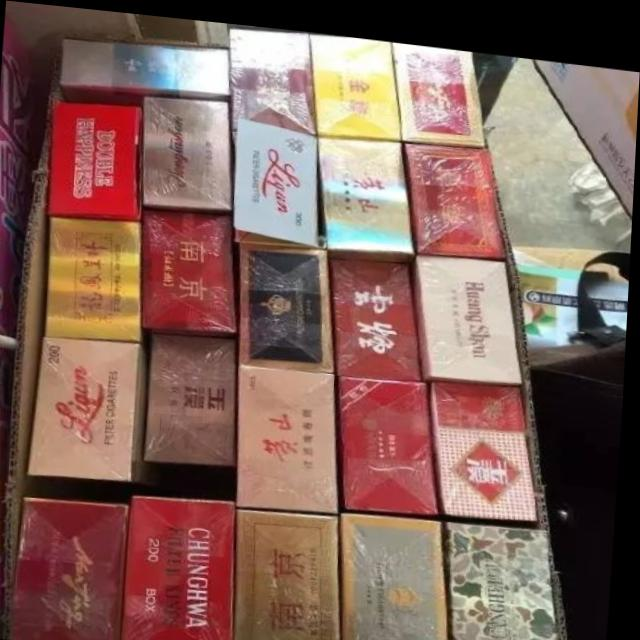box: (34, 334, 212, 476), (12, 495, 131, 640), (129, 493, 238, 640), (238, 502, 346, 640), (436, 371, 543, 507), (241, 360, 342, 504), (346, 506, 454, 640), (413, 248, 526, 376), (451, 513, 563, 640), (344, 368, 445, 505), (317, 129, 415, 256), (50, 212, 145, 339), (404, 134, 509, 248), (242, 239, 337, 364), (147, 332, 239, 458), (235, 111, 322, 243), (143, 207, 239, 326), (49, 101, 142, 214), (336, 252, 425, 370), (308, 27, 404, 133), (144, 93, 235, 204), (63, 40, 228, 99), (392, 35, 489, 135), (229, 24, 320, 127)
